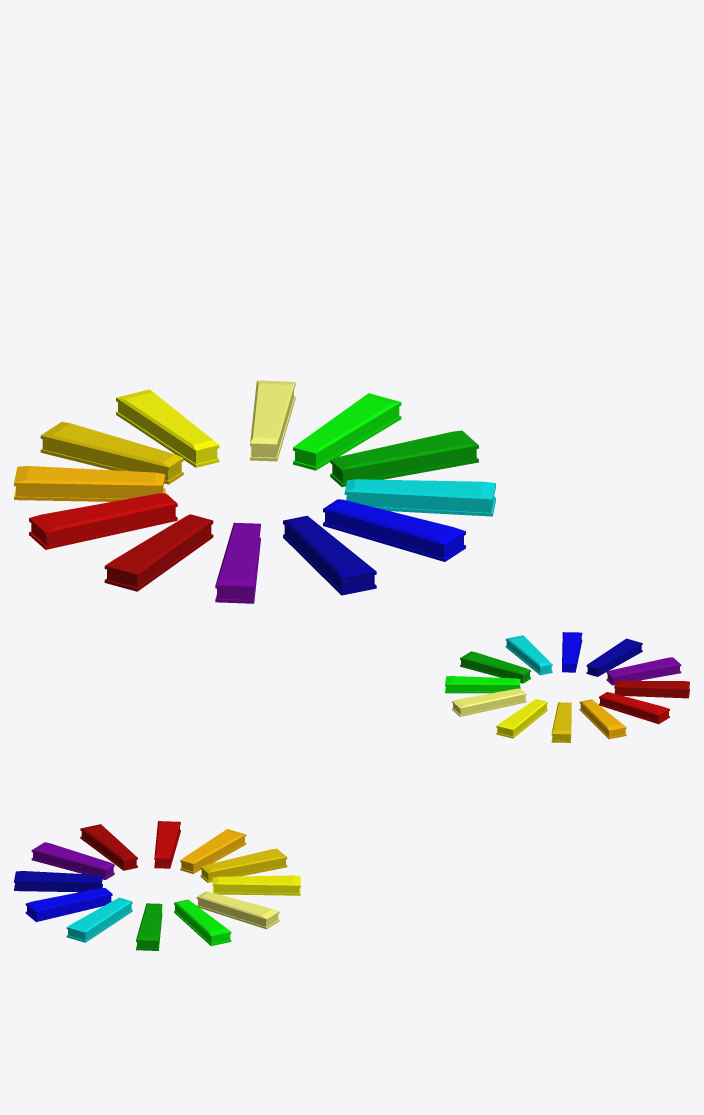
File: obra fin de los margenes final.glb
3 renders of one model, top to bottom at view 1: azimuth 30°, elevation 25°; view 2: azimuth 150°, elevation 25°; view 3: azimuth 270°, elevation 25°, orthographic. The views are drawn at different scales.
Visible parts, largest first — view 1: SketchUp.023, SketchUp.087, SketchUp.103, SketchUp.015, SketchUp.056, SketchUp.104, SketchUp.107, SketchUp.118, SketchUp, SketchUp.034, SketchUp.048, SketchUp.067; view 2: SketchUp.107, SketchUp.118, SketchUp.023, SketchUp.048, SketchUp.015, SketchUp.034, SketchUp, SketchUp.087, SketchUp.056, SketchUp.104, SketchUp.103, SketchUp.067 (+1 smaller); view 3: SketchUp, SketchUp.103, SketchUp.034, SketchUp.104, SketchUp.048, SketchUp.087, SketchUp.056, SketchUp.107, SketchUp.118, SketchUp.023, SketchUp.015, SketchUp.067 (+1 smaller).
Part boxes in pixels (x1=…): SketchUp.023: x1=29, y1=493, x2=177, y2=549; SketchUp.087: x1=344, y1=479, x2=495, y2=516; SketchUp.103: x1=323, y1=499, x2=465, y2=561; SketchUp.015: x1=330, y1=430, x2=478, y2=486; SketchUp.056: x1=14, y1=466, x2=165, y2=501; SketchUp.104: x1=40, y1=422, x2=183, y2=484; SketchUp.107: x1=104, y1=514, x2=213, y2=591; SketchUp.118: x1=293, y1=393, x2=401, y2=470; SketchUp: x1=116, y1=389, x2=219, y2=467; SketchUp.034: x1=283, y1=515, x2=376, y2=595; SketchUp.048: x1=215, y1=522, x2=260, y2=603; SketchUp.067: x1=250, y1=380, x2=295, y2=447; SketchUp.107: x1=614, y1=680, x2=689, y2=698; SketchUp.118: x1=445, y1=676, x2=520, y2=693; SketchUp.023: x1=599, y1=692, x2=669, y2=724; SketchUp.048: x1=606, y1=657, x2=681, y2=685; SketchUp.015: x1=460, y1=651, x2=530, y2=683; SketchUp.034: x1=586, y1=638, x2=642, y2=676; SketchUp: x1=496, y1=699, x2=547, y2=738; SketchUp.087: x1=505, y1=635, x2=552, y2=675; SketchUp.056: x1=579, y1=699, x2=626, y2=739; SketchUp.104: x1=551, y1=702, x2=571, y2=742; SketchUp.103: x1=562, y1=632, x2=582, y2=672; SketchUp.067: x1=452, y1=688, x2=526, y2=709; SketchUp: x1=212, y1=875, x2=300, y2=895; SketchUp.103: x1=25, y1=888, x2=112, y2=921; SketchUp.034: x1=14, y1=871, x2=102, y2=892; SketchUp.104: x1=200, y1=848, x2=287, y2=882; SketchUp.048: x1=31, y1=842, x2=114, y2=879; SketchUp.087: x1=66, y1=897, x2=132, y2=942; SketchUp.056: x1=180, y1=829, x2=246, y2=873; SketchUp.107: x1=80, y1=824, x2=137, y2=870; SketchUp.118: x1=174, y1=899, x2=231, y2=946; SketchUp.023: x1=154, y1=821, x2=180, y2=868; SketchUp.015: x1=136, y1=903, x2=162, y2=950; SketchUp.067: x1=196, y1=891, x2=279, y2=920.
Bounding box in the file's own units: 17.95 × 0.35 × 18.88.
